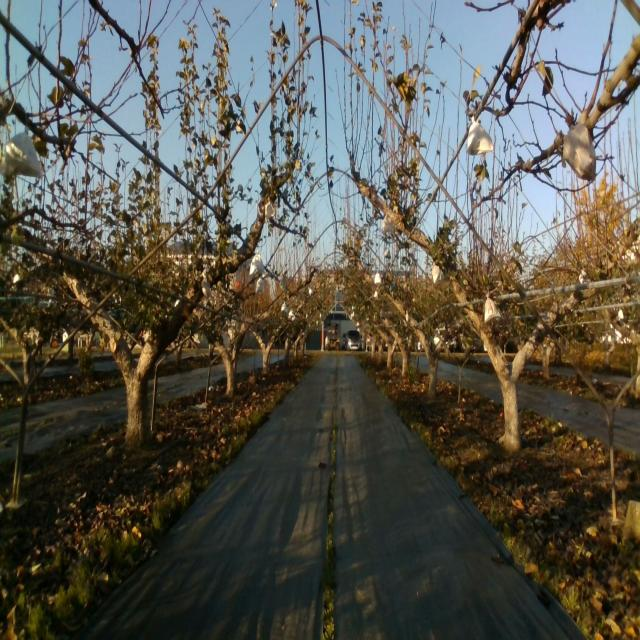pearbags: (0, 115, 43, 181), (562, 117, 598, 180), (466, 110, 494, 154), (483, 290, 501, 322), (249, 250, 265, 275), (381, 215, 394, 239), (264, 199, 276, 224), (201, 277, 213, 298), (431, 263, 444, 282)
